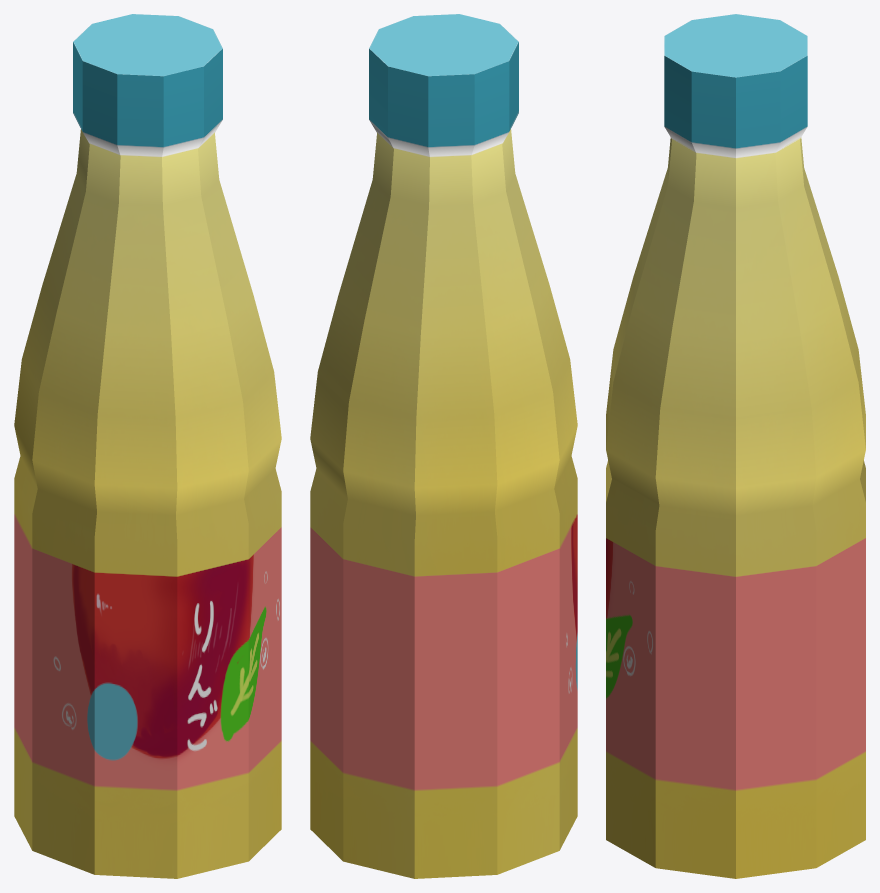
The model's file is drink_C2.fbx.
3 views of the same model, side by side, from view 1: azimuth 30°, elevation 25°; view 2: azimuth 150°, elevation 25°; view 3: azimuth 270°, elevation 25° (orthographic).
Parts seen in each view (by area): view 1: drink_C2_1; view 2: drink_C2_1; view 3: drink_C2_1.
Part boxes in pixels (x1,y1,x2,y2): drink_C2_1: (14,14,281,878); drink_C2_1: (310,14,577,878); drink_C2_1: (606,14,865,878).
Bounding box in the file's own units: 17.31 × 55.6 × 16.87.
1 material, 1 textured.
